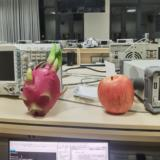apple: (98, 73, 136, 115)
pitaya: (24, 50, 60, 118)
